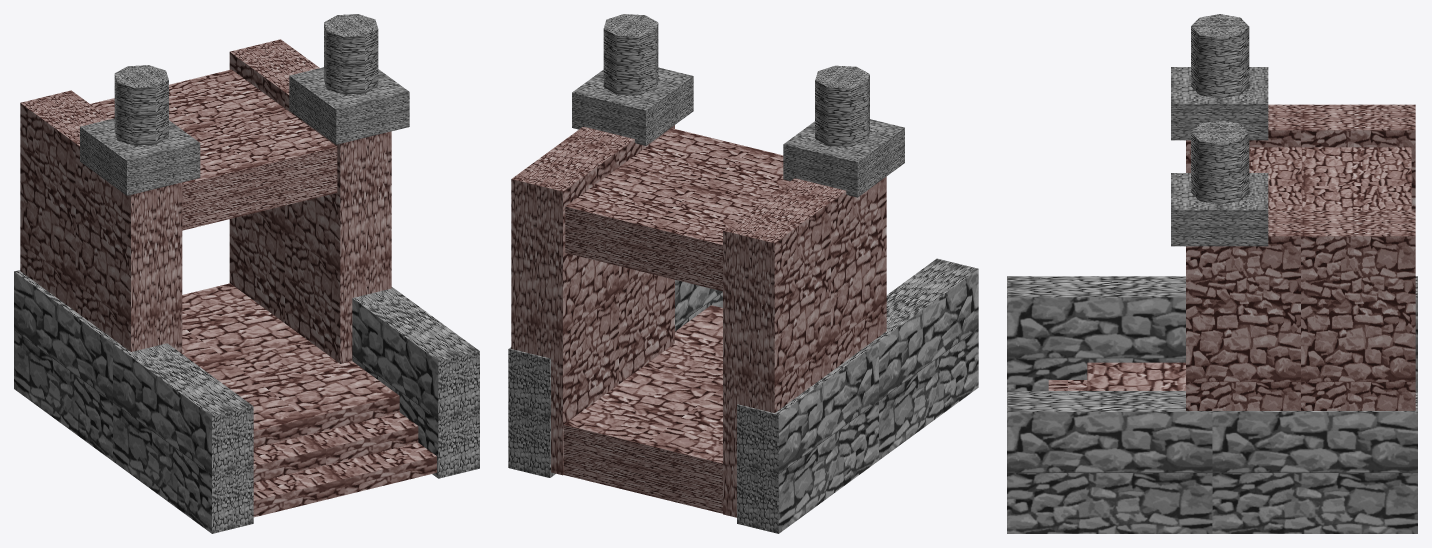
The model's file is DungeonEntrance.FBX.
3 views of the same model, side by side, from view 1: azimuth 30°, elevation 25°; view 2: azimuth 150°, elevation 25°; view 3: azimuth 270°, elevation 25° (orthographic). The views are drawn at different scales.
Visible parts, largest first — view 1: Box01; view 2: Box01; view 3: Box01.
Boxes of the visible parts, box(x1,y1,x2,y2) form: Box01: box(14, 14, 479, 533); Box01: box(508, 14, 978, 533); Box01: box(1007, 14, 1417, 533).
Bounding box in the file's own units: 54.93 × 66.61 × 69.49.
Materials: 2 (2 with a texture image).
